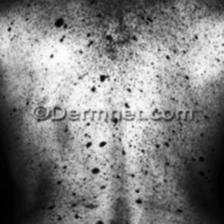Potentially Malignant Skin Tumors: (96, 74, 108, 90), (84, 141, 108, 149), (54, 20, 68, 26), (90, 167, 100, 173)
